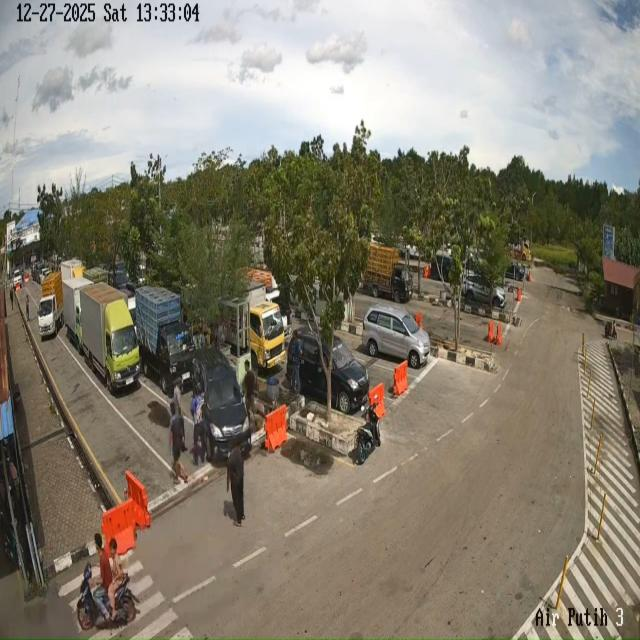Golongan IVA: (286, 328, 370, 414), (192, 346, 252, 459), (362, 305, 430, 369), (462, 271, 506, 309)
Golongan IVB: (135, 286, 195, 394), (363, 243, 413, 303), (38, 272, 64, 340)
Golongan VB: (80, 282, 140, 393), (62, 277, 92, 352)
